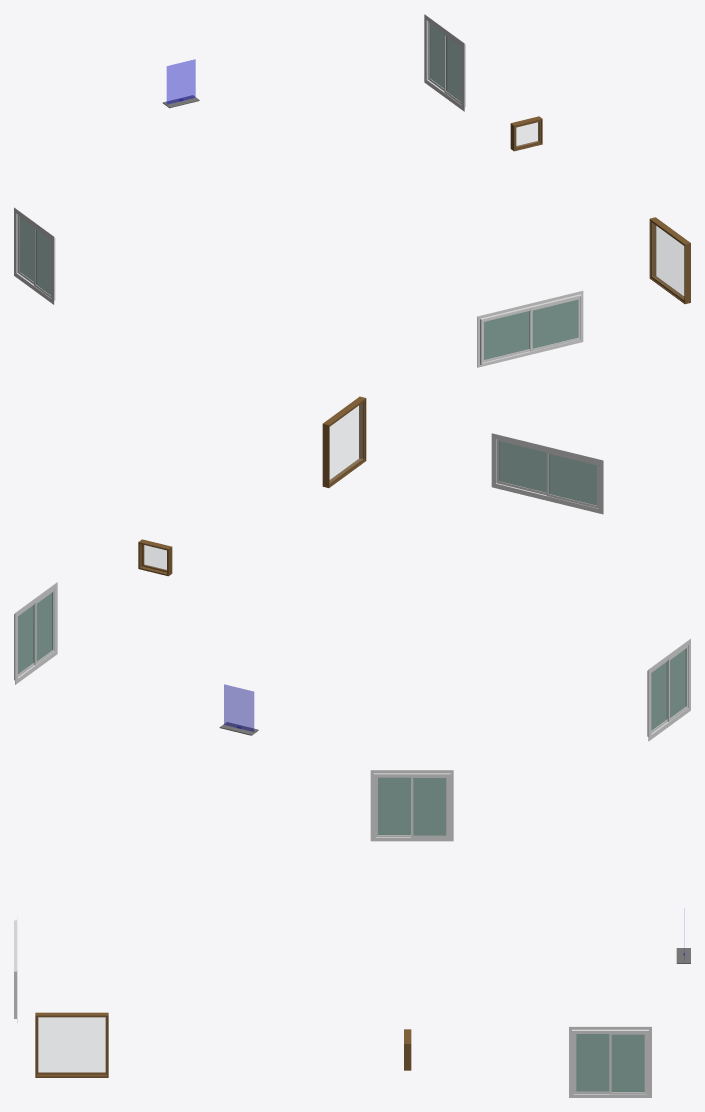
The model's file is PROJETO BIM 12 ANDARES_Quinto_IfcWindow.dae.
3 renders of one model, top to bottom at view 1: azimuth 30°, elevation 25°; view 2: azimuth 150°, elevation 25°; view 3: azimuth 270°, elevation 25°, orthographic. The views are drawn at different scales.
Visible parts, largest first — view 1: 1C3e13NTDBWfr6F8kTVni5, 2LncoLmf18SvykSYdYgLnb, 1C3e13NTDBWfr6F8kTVni4, 1C3e13NTDBWfr6F8kTVni6, 1C3e13NTDBWfr6F8kTVni7, 1C3e13NTDBWfr6F8kTVni9; view 2: 1C3e13NTDBWfr6F8kTVni5, 2LncoLmf18SvykSYdYgLnb, 1C3e13NTDBWfr6F8kTVni4, 1C3e13NTDBWfr6F8kTVni6, 1C3e13NTDBWfr6F8kTVni7, 1C3e13NTDBWfr6F8kTVni9; view 3: 1C3e13NTDBWfr6F8kTVni4, 2LncoLmf18SvykSYdYgLnb, 1C3e13NTDBWfr6F8kTVni6.
Part boxes in pixels (bbox=[...]): 1C3e13NTDBWfr6F8kTVni5: bbox=[477, 290, 583, 367]; 2LncoLmf18SvykSYdYgLnb: bbox=[424, 14, 465, 111]; 1C3e13NTDBWfr6F8kTVni4: bbox=[14, 207, 55, 304]; 1C3e13NTDBWfr6F8kTVni6: bbox=[649, 217, 690, 304]; 1C3e13NTDBWfr6F8kTVni7: bbox=[162, 59, 199, 108]; 1C3e13NTDBWfr6F8kTVni9: bbox=[510, 116, 542, 151]; 1C3e13NTDBWfr6F8kTVni5: bbox=[491, 433, 603, 514]; 2LncoLmf18SvykSYdYgLnb: bbox=[14, 582, 57, 684]; 1C3e13NTDBWfr6F8kTVni4: bbox=[647, 638, 690, 741]; 1C3e13NTDBWfr6F8kTVni6: bbox=[322, 396, 366, 487]; 1C3e13NTDBWfr6F8kTVni7: bbox=[219, 684, 258, 735]; 1C3e13NTDBWfr6F8kTVni9: bbox=[138, 539, 172, 576]; 1C3e13NTDBWfr6F8kTVni4: bbox=[370, 770, 453, 841]; 2LncoLmf18SvykSYdYgLnb: bbox=[569, 1026, 651, 1097]; 1C3e13NTDBWfr6F8kTVni6: bbox=[35, 1012, 108, 1077].
Size of the model in its own units: 12.47 by 13.83 by 1.6.
